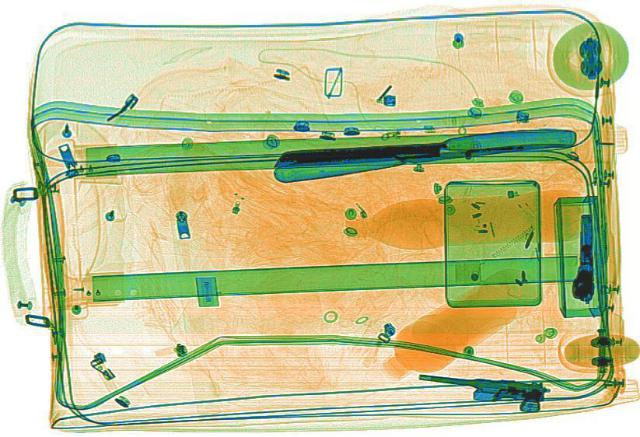Gun: (411, 362, 551, 412), (568, 214, 596, 301)
Knife: (270, 131, 566, 182), (268, 126, 576, 165)
